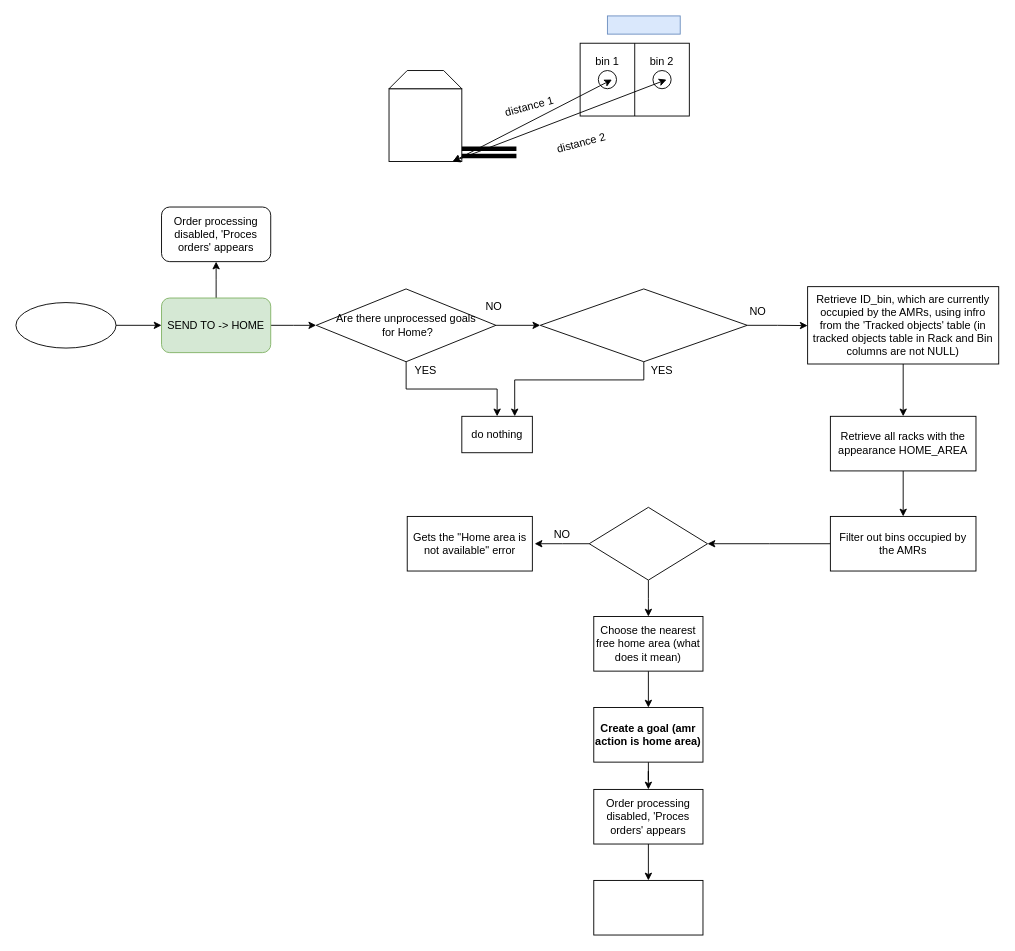
This 1015x951 diagram has some shape labels left out. The shapes that lost their labels are listed below. From the top down, each one's centre as x and y in pixels, then its label:
the point at 643,24: Home area
the point at 425,125: AMR
the point at 65,325: START
the point at 643,325: The last processed goal is at home position?
the point at 648,543: Is there at least one free home area?
the point at 648,907: Send goal to the camera server
